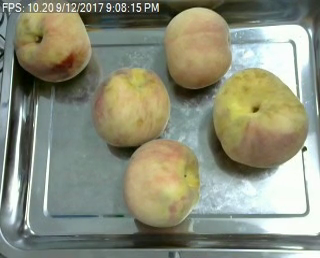Peach: (213, 66, 308, 167), (124, 138, 200, 228), (92, 66, 171, 148), (14, 0, 92, 82), (163, 6, 233, 89)
